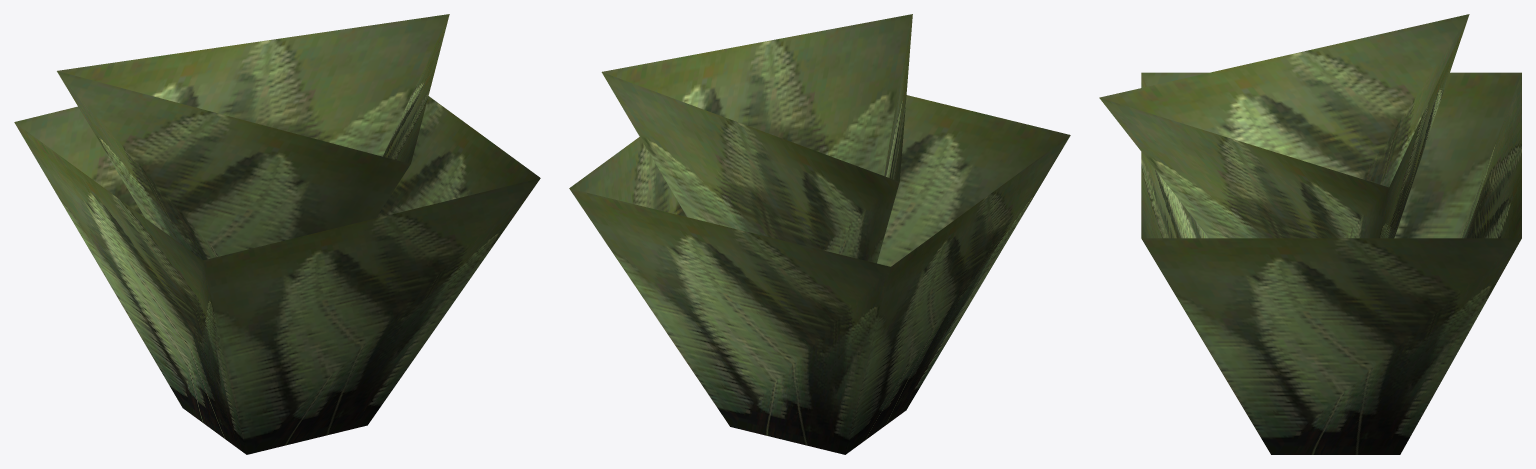
File: frst_fern_green_longleaf_l3.fbx
3 renders of one model, left to right at view 1: azimuth 30°, elevation 25°; view 2: azimuth 150°, elevation 25°; view 3: azimuth 270°, elevation 25°, orthographic. The views are drawn at different scales.
Visible parts, largest first — view 1: mesh_node; view 2: mesh_node; view 3: mesh_node.
Boxes of the visible parts, box(x1,y1,x2,y2) form: mesh_node: box(14, 14, 540, 454); mesh_node: box(569, 14, 1070, 454); mesh_node: box(1099, 14, 1521, 454).
Bounding box in the file's own units: 4.19 × 3.62 × 4.12.
